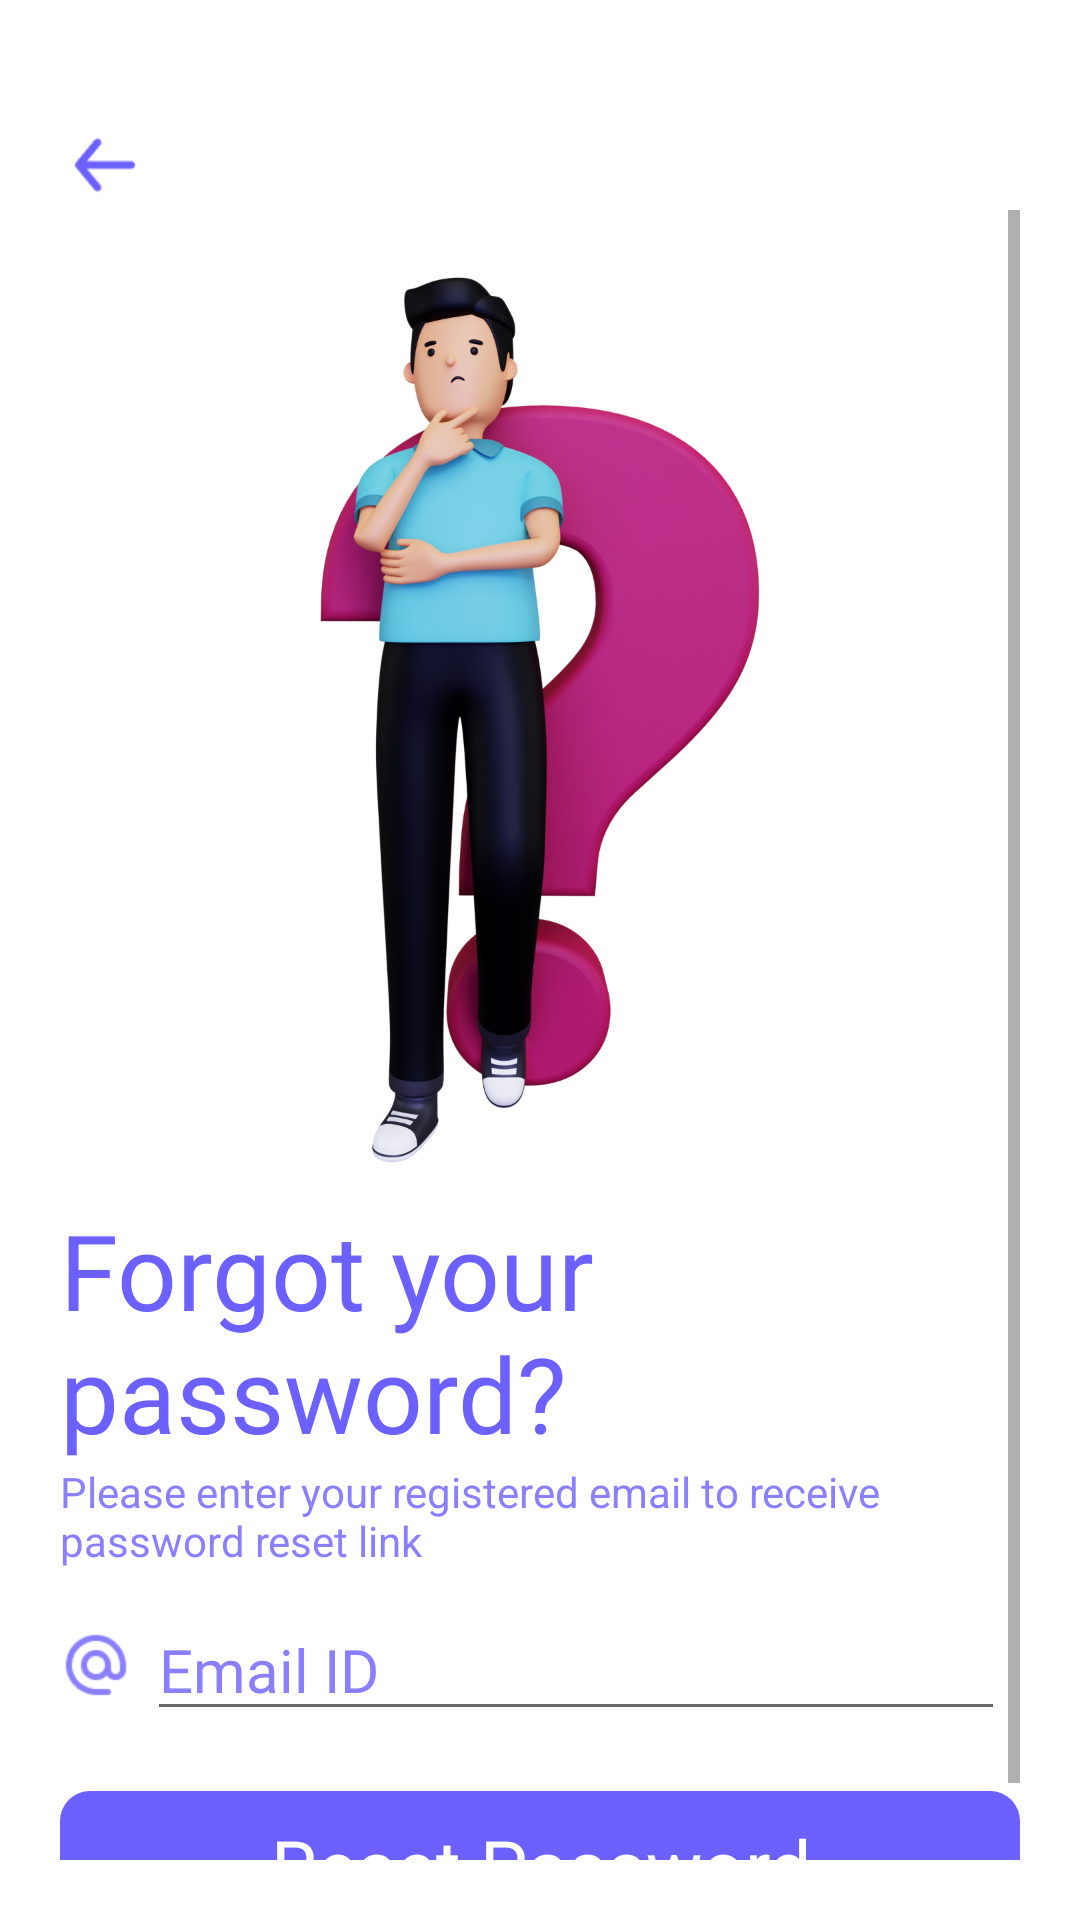

Named icons in this screenshot (1080x1920) and their centers, [x,y]:
arrow back: [105,165]
